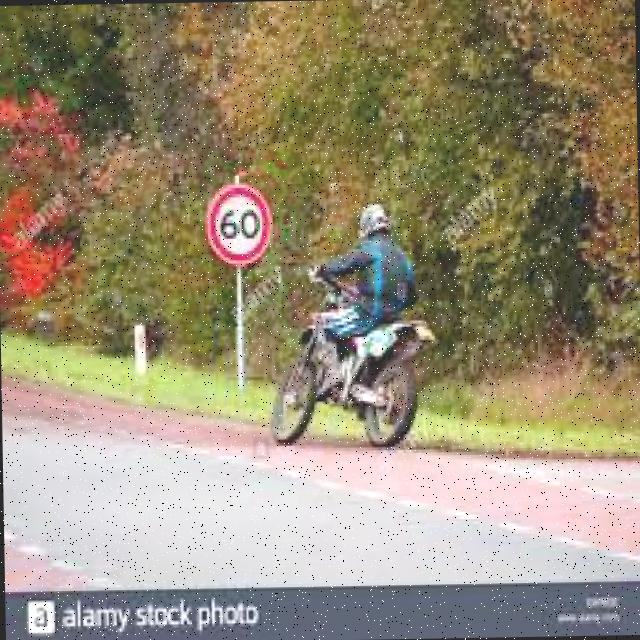Ograniczenie predkosci do 60: (202, 177, 276, 274)
